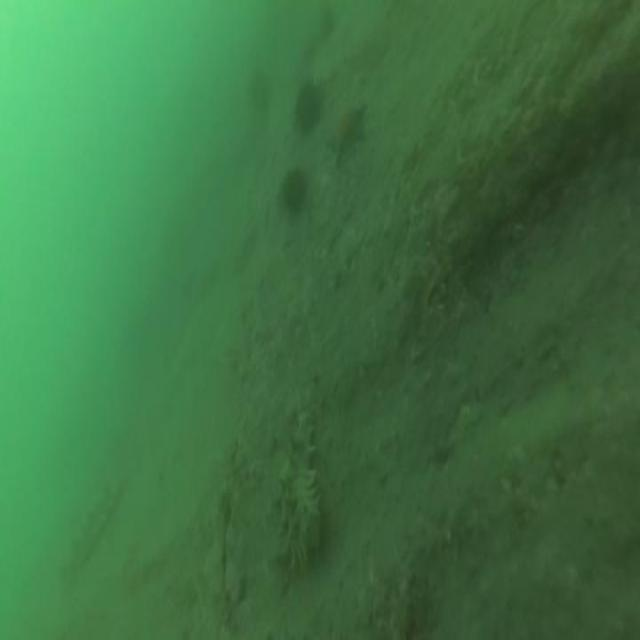echinus: (292, 77, 328, 136), (278, 164, 310, 217), (244, 63, 274, 119)
holothurian: (274, 403, 326, 577), (67, 480, 121, 577)
starfish: (324, 98, 372, 172)
